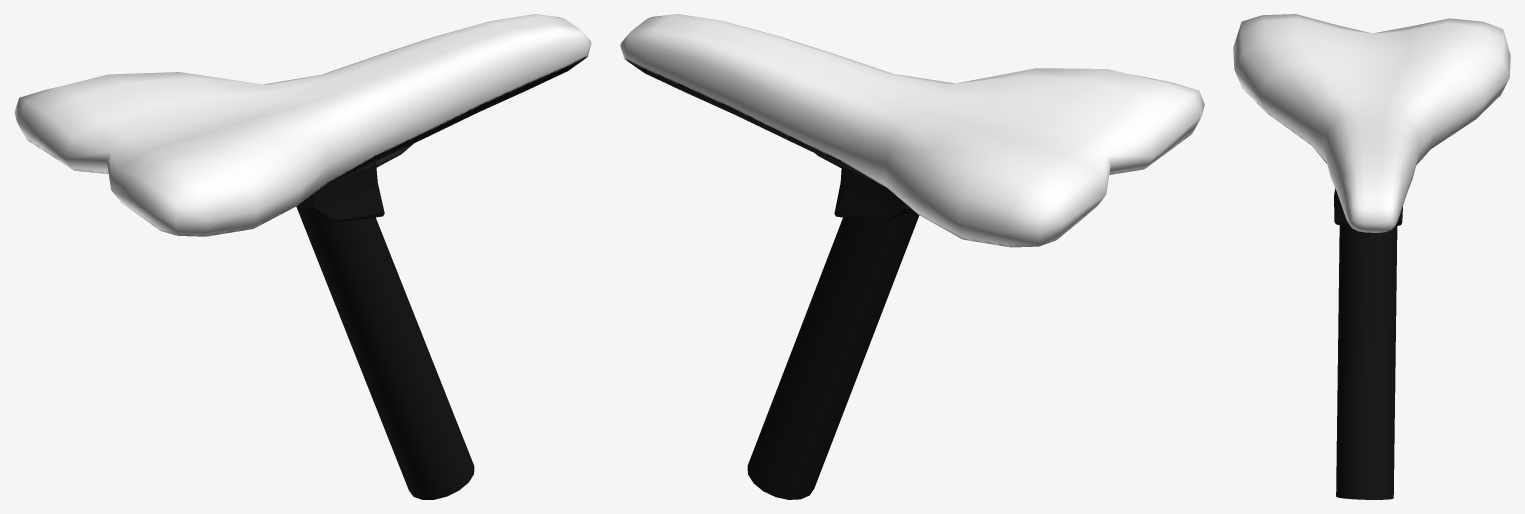
Rendered from Seat_MountainBike.glb.
3 views of the same model, side by side, from view 1: azimuth 30°, elevation 25°; view 2: azimuth 150°, elevation 25°; view 3: azimuth 270°, elevation 25° (orthographic). The views are drawn at different scales.
Parts seen in each view (by area): view 1: SM_Seat_Mountain, SM_SeatPost_Mountain; view 2: SM_Seat_Mountain, SM_SeatPost_Mountain; view 3: SM_Seat_Mountain, SM_SeatPost_Mountain.
Boxes of the visible parts, x1,y1,x2,y2 form: SM_Seat_Mountain: [14, 14, 591, 236]; SM_SeatPost_Mountain: [296, 144, 474, 499]; SM_Seat_Mountain: [620, 14, 1204, 247]; SM_SeatPost_Mountain: [747, 153, 919, 499]; SM_Seat_Mountain: [1233, 14, 1510, 232]; SM_SeatPost_Mountain: [1334, 188, 1402, 499].
Bounding box in the file's own units: 0.2073 × 0.1747 × 0.1202.
1 material, 1 textured.
